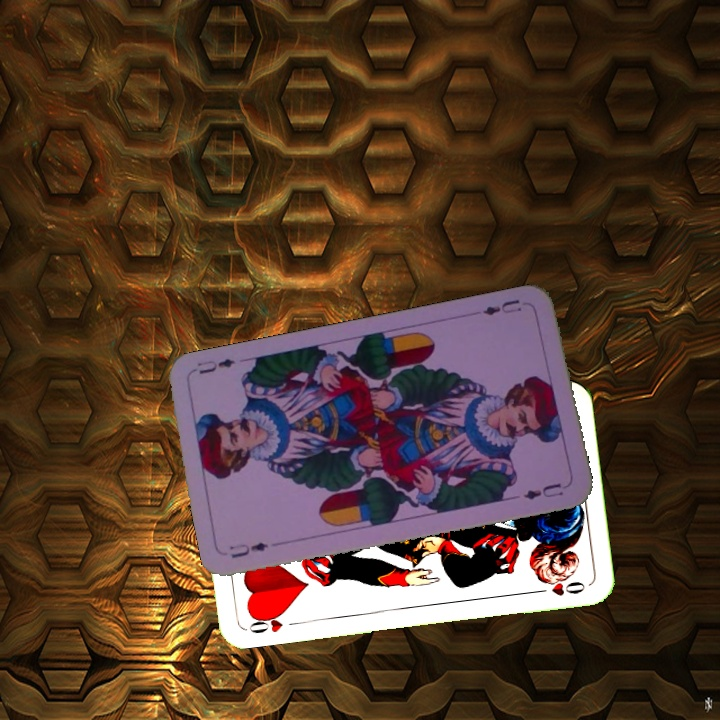EU: (225, 538, 271, 561), (479, 295, 524, 318)
HO: (242, 608, 288, 637)
